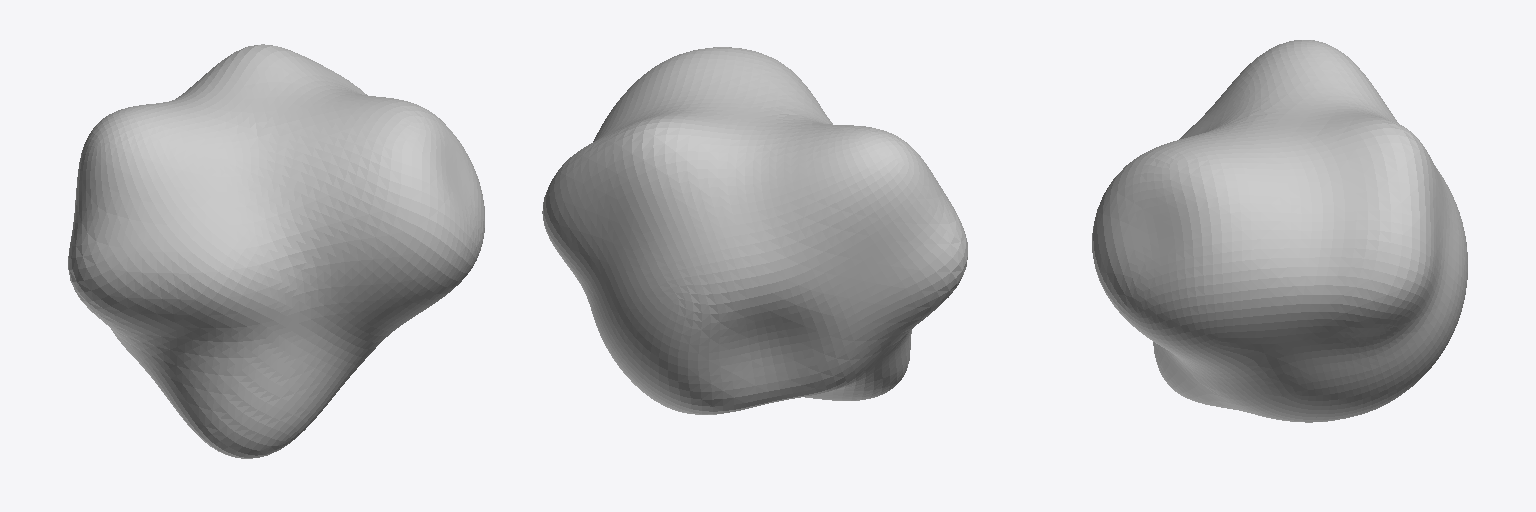
Rendered from TreeLeaves.obj.
3 renders of one model, left to right at view 1: azimuth 30°, elevation 25°; view 2: azimuth 150°, elevation 25°; view 3: azimuth 270°, elevation 25°, orthographic.
Parts seen in each view (by area): view 1: Group9192; view 2: Group9192; view 3: Group9192.
Part boxes in pixels (left/top/right/bottom): Group9192: left=68, top=44, right=484, bottom=458; Group9192: left=542, top=47, right=967, bottom=414; Group9192: left=1092, top=40, right=1467, bottom=422.
Size of the model in its own units: 1.74 by 1.4 by 1.51.